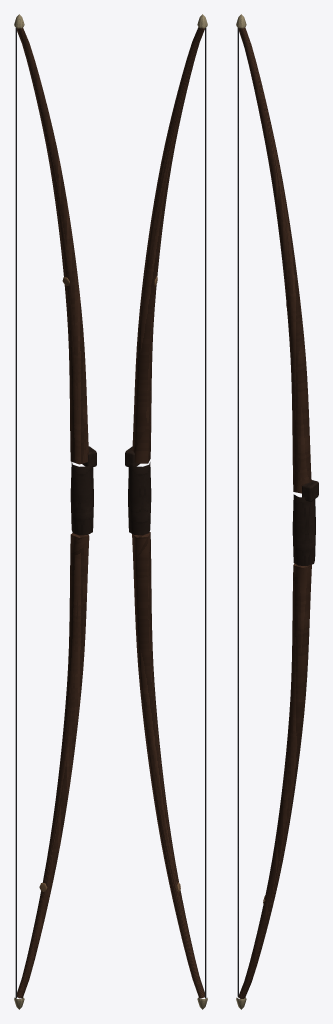
File: longbow.lod2.glb
3 views of the same model, side by side, from view 1: azimuth 30°, elevation 25°; view 2: azimuth 150°, elevation 25°; view 3: azimuth 330°, elevation 25° (orthographic).
Visible parts, largest first — view 1: wood / oiled hardwood, cord / waxed silk cord wrap, leather / oiled leather wrap; view 2: wood / oiled hardwood, cord / waxed silk cord wrap, leather / oiled leather wrap; view 3: wood / oiled hardwood, cord / waxed silk cord wrap, leather / oiled leather wrap.
Part boxes in pixels (bbox=[...]): wood / oiled hardwood: bbox=[17, 27, 89, 998]; cord / waxed silk cord wrap: bbox=[15, 28, 16, 998]; leather / oiled leather wrap: bbox=[70, 446, 96, 535]; wood / oiled hardwood: bbox=[132, 27, 204, 998]; cord / waxed silk cord wrap: bbox=[205, 28, 206, 998]; leather / oiled leather wrap: bbox=[125, 446, 151, 535]; wood / oiled hardwood: bbox=[238, 27, 311, 998]; cord / waxed silk cord wrap: bbox=[237, 27, 238, 996]; leather / oiled leather wrap: bbox=[292, 480, 318, 565].
Size of the model in its own units: 0.1548 by 1.89 by 0.0418.
Materials: 5 (4 with a texture image).
